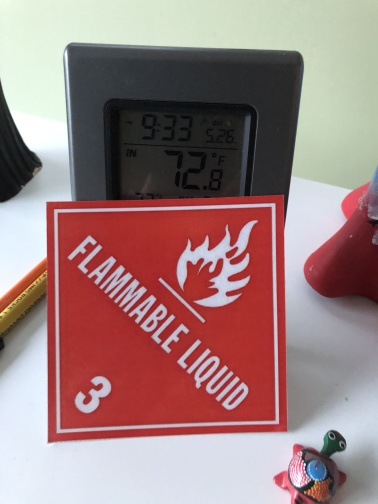FlammableLiquid: (50, 201, 282, 429)
